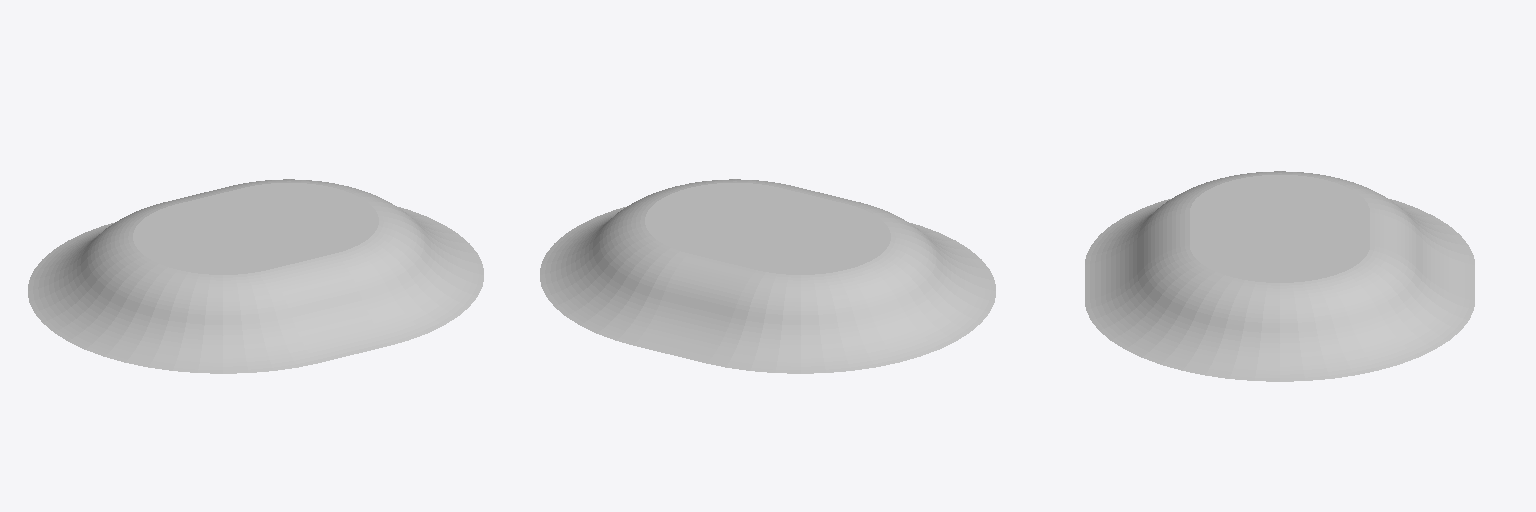
File: bump.obj
3 renders of one model, left to right at view 1: azimuth 30°, elevation 25°; view 2: azimuth 150°, elevation 25°; view 3: azimuth 270°, elevation 25°, orthographic.
Parts seen in each view (by area): view 1: instance_0.001_ID13, instance_0_ID5; view 2: instance_0.001_ID13, instance_0_ID5; view 3: instance_0.001_ID13, instance_0_ID5.
Boxes of the visible parts, x1,y1,x2,y2 form: instance_0.001_ID13: [28, 179, 483, 373]; instance_0_ID5: [172, 199, 339, 257]; instance_0.001_ID13: [540, 179, 995, 373]; instance_0_ID5: [684, 199, 851, 257]; instance_0.001_ID13: [1085, 171, 1474, 381]; instance_0_ID5: [1229, 191, 1330, 265].
Size of the model in its own units: 8.74 by 1.12 by 7.31.